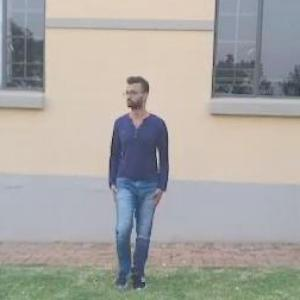follow: (96, 61, 176, 299)
